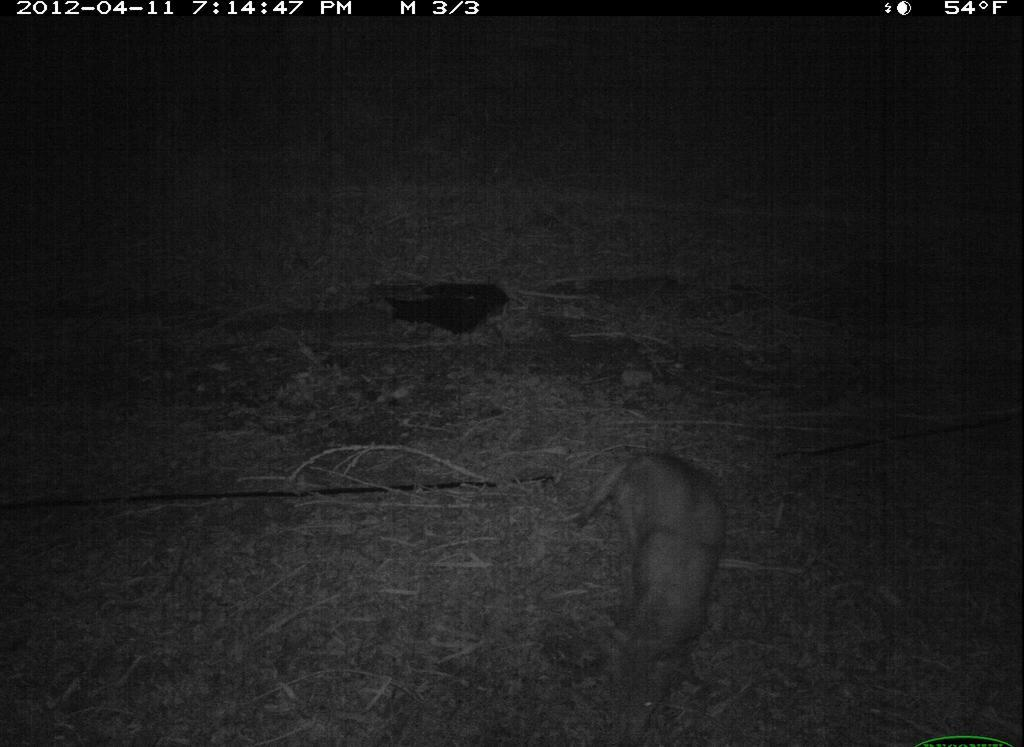coyote: (577, 446, 729, 747)
